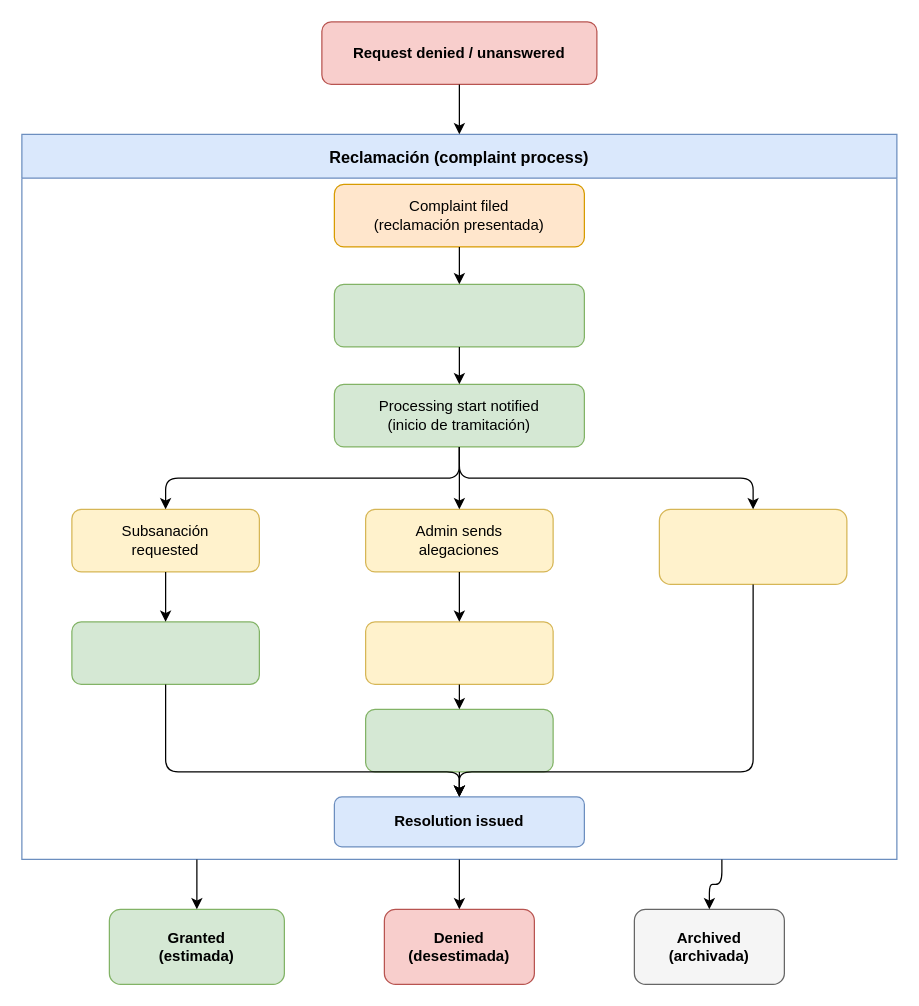
This 919x1006 diagram has some shape labels left out. Here are the shapes that lost their labels. From the top down, the centre of each, then its label:
At point (458, 315): "Receipt received (acuse de recibo)".
At point (752, 546): "Citizen sends additional docs (ampliación)".
At point (165, 652): "Subsanación submitted".
At point (458, 652): "Audiencia notified (citizen can respond)".
At point (458, 740): "Citizen responds to alegaciones".
